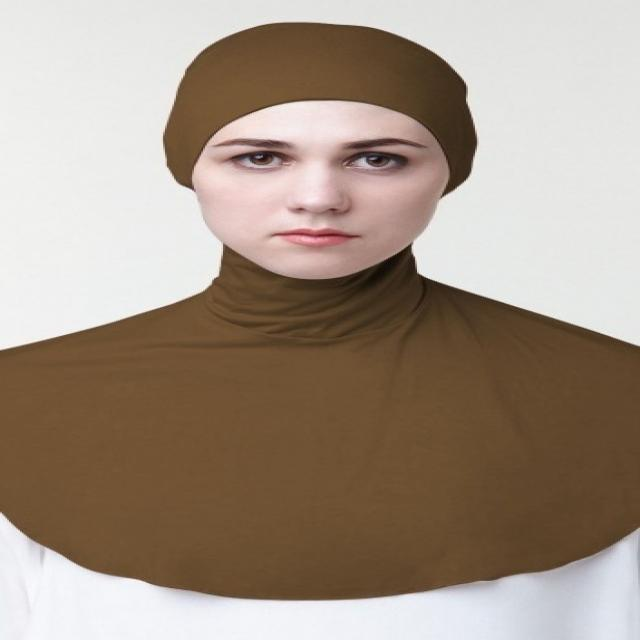head: (160, 23, 498, 288)
